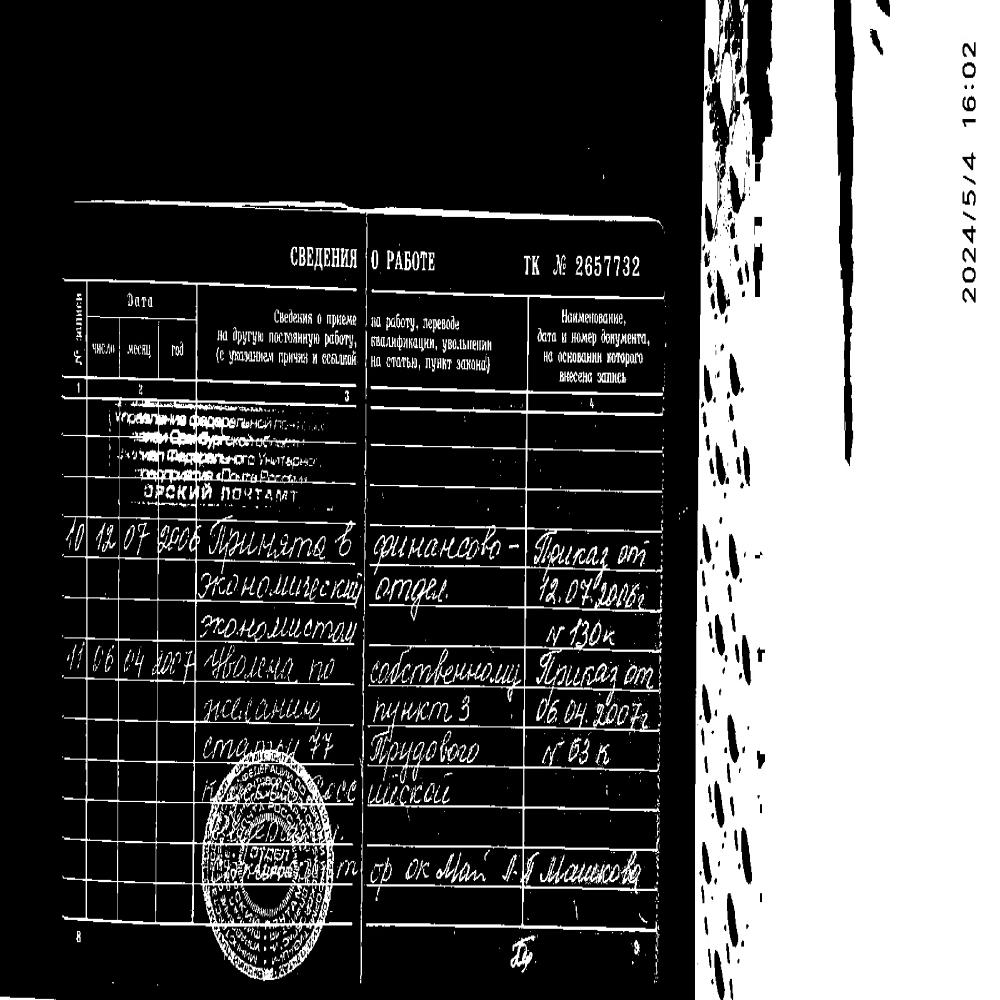rus: (196, 606, 362, 647), (62, 516, 201, 562), (290, 234, 437, 276), (196, 568, 364, 604), (366, 650, 519, 688), (534, 644, 655, 690), (503, 850, 642, 888), (525, 527, 657, 567), (62, 640, 194, 680), (194, 686, 324, 723), (373, 529, 501, 566), (209, 516, 324, 557), (529, 695, 662, 730), (523, 249, 643, 285), (526, 571, 652, 605), (196, 730, 302, 769), (370, 762, 458, 808), (530, 725, 613, 773), (370, 728, 474, 765), (196, 649, 297, 684), (406, 850, 486, 889), (374, 693, 469, 725), (542, 613, 616, 648), (374, 572, 453, 602), (368, 845, 401, 886), (560, 309, 626, 328), (304, 651, 341, 682), (371, 334, 434, 352), (600, 328, 649, 348), (307, 724, 335, 758), (443, 337, 493, 355), (334, 521, 358, 558), (123, 288, 157, 314), (268, 330, 320, 347), (272, 306, 313, 326), (559, 348, 603, 366), (230, 325, 264, 348), (126, 338, 154, 363), (228, 351, 274, 365), (606, 351, 644, 366), (422, 315, 456, 331), (385, 354, 418, 370), (424, 355, 453, 373), (558, 370, 595, 384), (322, 352, 358, 366), (90, 338, 116, 357), (386, 314, 416, 330), (324, 330, 353, 346), (456, 358, 486, 373), (277, 350, 309, 364), (326, 312, 357, 326), (596, 372, 628, 384), (572, 332, 598, 345), (539, 327, 558, 344), (169, 339, 184, 358), (542, 347, 554, 366), (215, 326, 228, 343), (371, 354, 382, 368), (372, 316, 381, 330), (561, 332, 568, 347), (218, 350, 226, 361), (316, 311, 322, 325), (312, 352, 318, 364)
